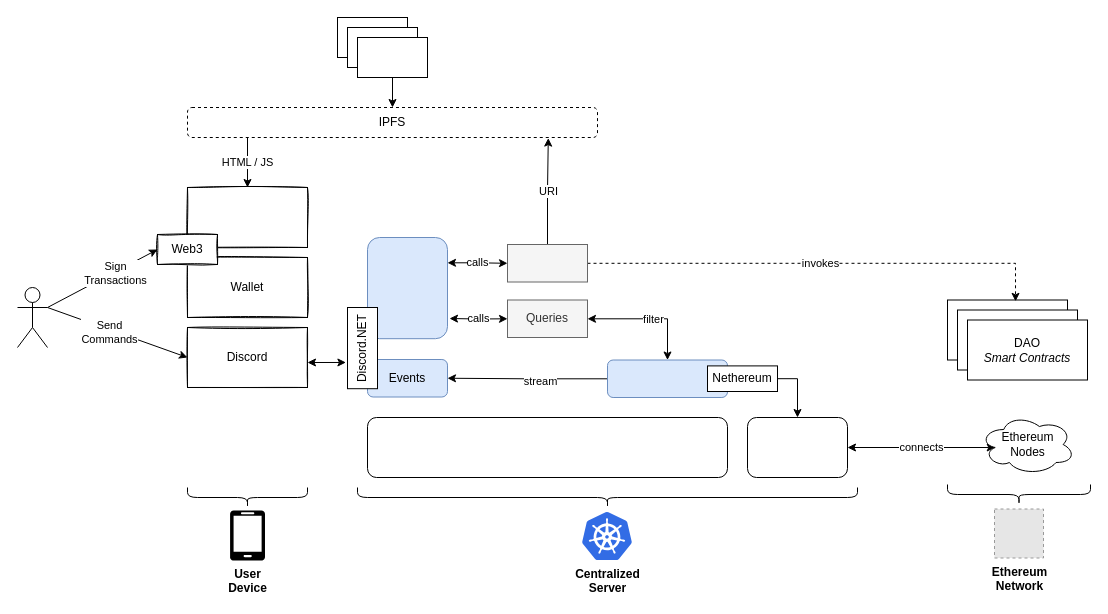
This 1108x614 diagram has some shape labels left out. Grey dashed boxes stand in for pictures. The centre of each missing label's shape, as x and y in pixels:
Commands: the point at 407,287
Ingest DAO Transactions: the point at 667,378
Micro Frontends: the point at 392,57
Parity Node (Ethereum): the point at 797,447
Perper Application: the point at 547,447
Transactions: the point at 547,263
User: the point at 32,317
Web UI: the point at 247,217
